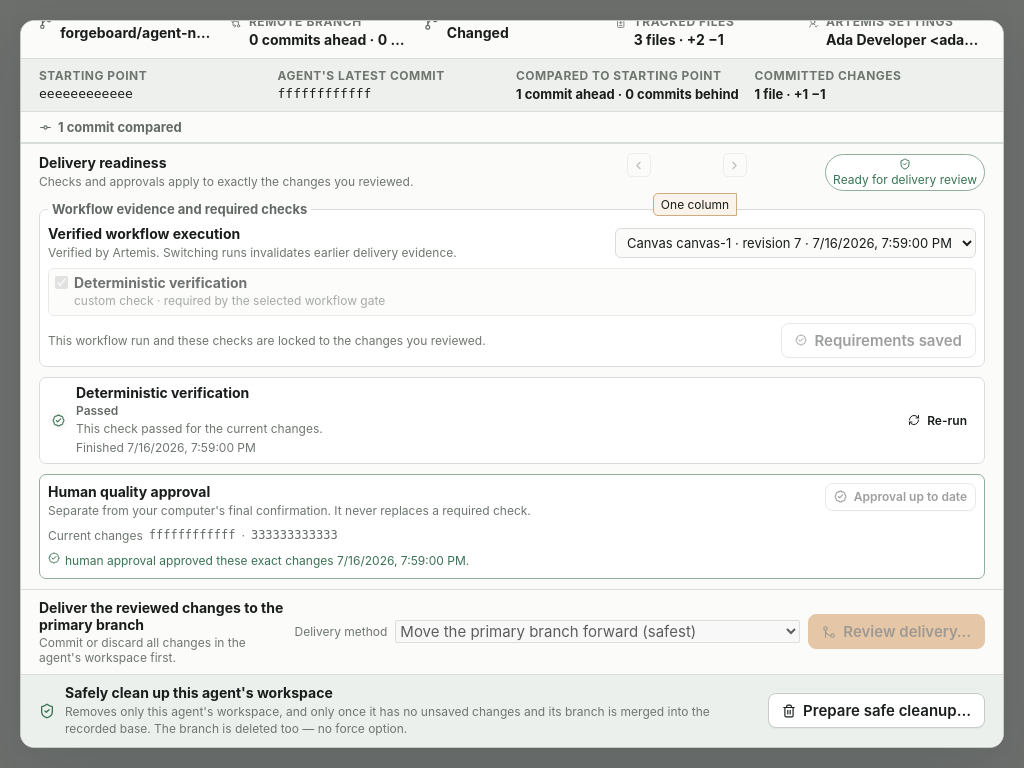
Test: GitReviewDialog › shows bounded relative dirty evidence and blocks an ineligible cleanup plan
(page scrolled)
Step 1. Click the button "Prepare safe cleanup…" → (877, 711), box left=768, top=693, right=985, bottom=728
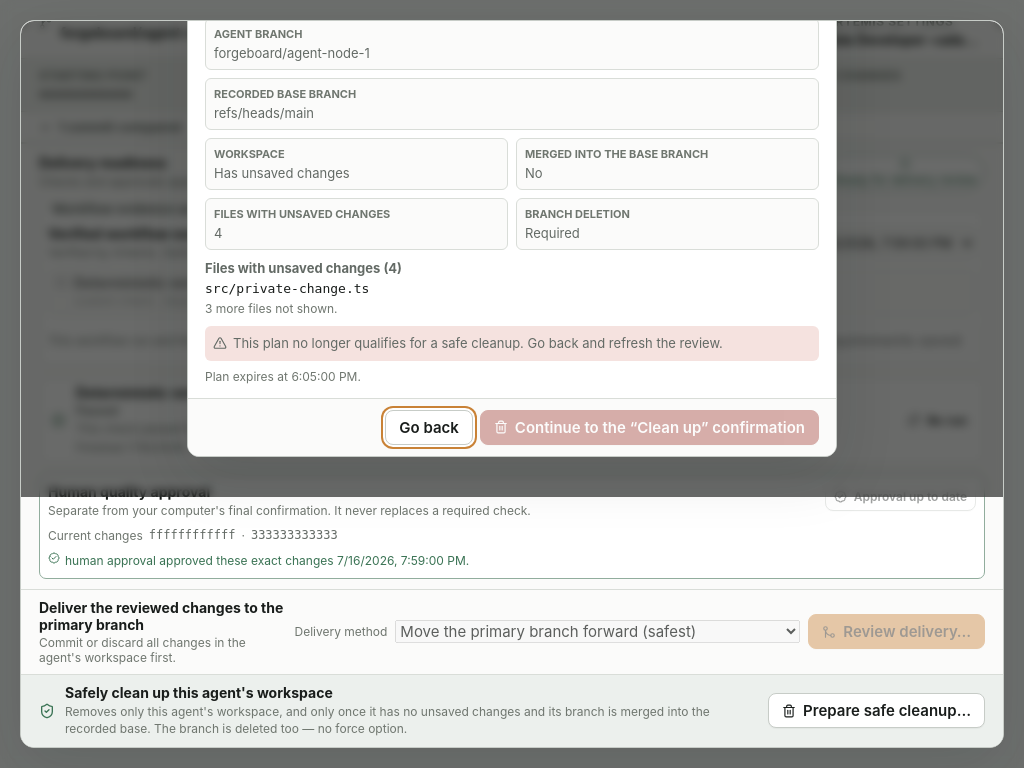
Check: the dialog "Review safe cleanup of the agent's workspace" shows "src/private-change.ts", box left=205, top=281, right=369, bottom=296
Check: the dialog "Review safe cleanup of the agent's workspace" shows "Files with unsaved changes (4)", box left=187, top=20, right=837, bottom=457
Check: the dialog "Review safe cleanup of the agent's workspace" shows "3 more files not shown", box left=187, top=20, right=837, bottom=457
